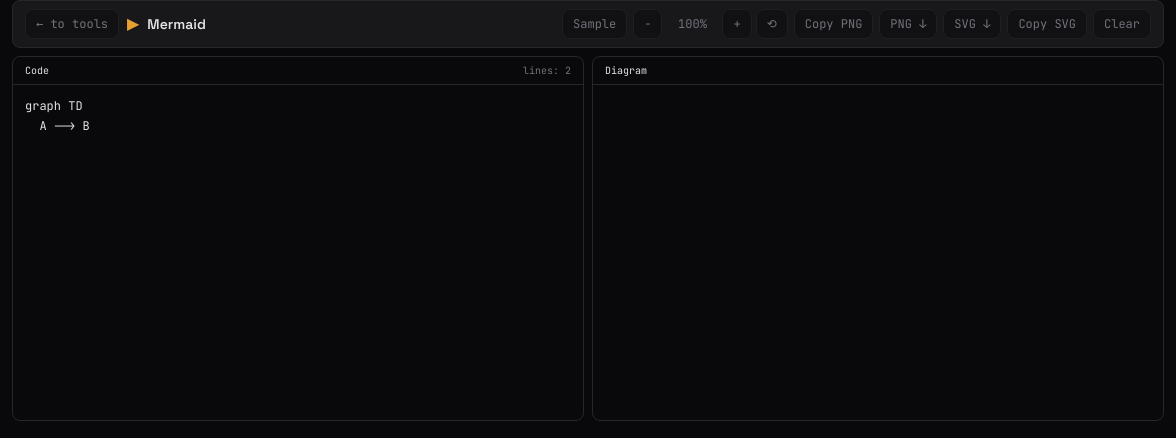
MermaidView toolbar › zooms in with + and returns to 100% with the reset button
The image size is (1176, 438).
What coordinates should you click on to do the following:
click the button named "Zoom in"
I would click on:
 (737, 24)
Its box is [722, 9, 752, 39].
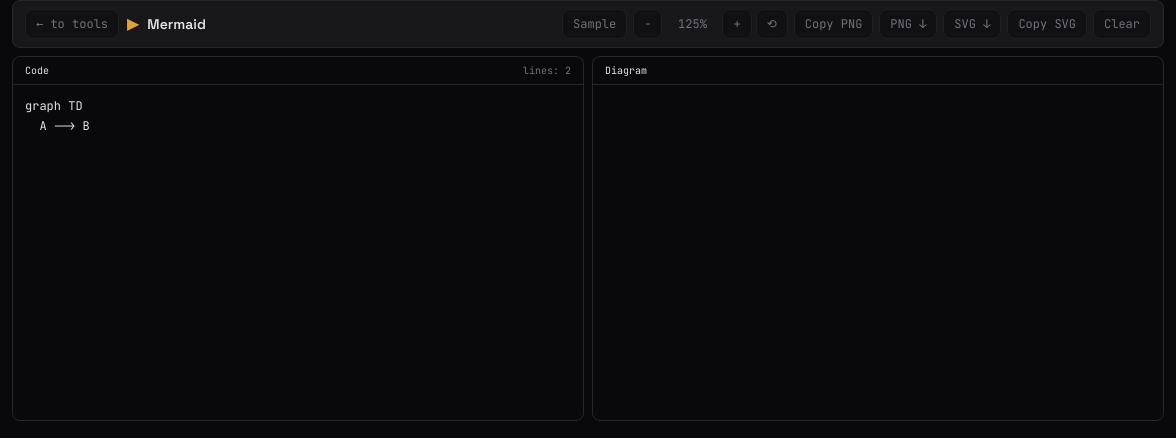
Check: the picture with test id "mermaid-zoom-level" reads "125%", box [678, 16, 707, 32]
What coordinates should you click on to do the following:
click the button named "Zoom in"
I would click on:
 (737, 24)
Its box is [722, 9, 752, 39].
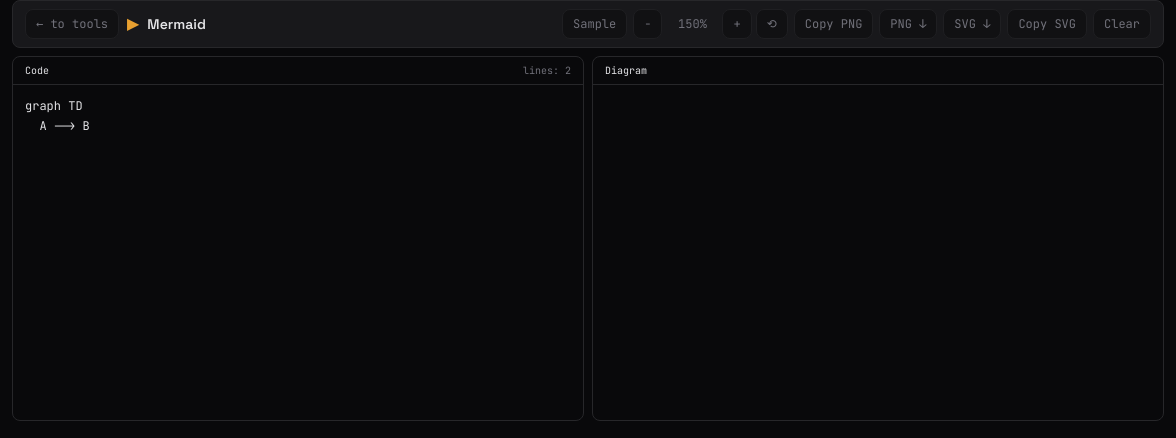
Check: the picture with test id "mermaid-zoom-level" reads "150%", box [678, 16, 707, 32]
What coordinates should you click on to do the following:
click the button named "Reset zoom"
I would click on:
 (772, 24)
Its box is [756, 9, 788, 39].
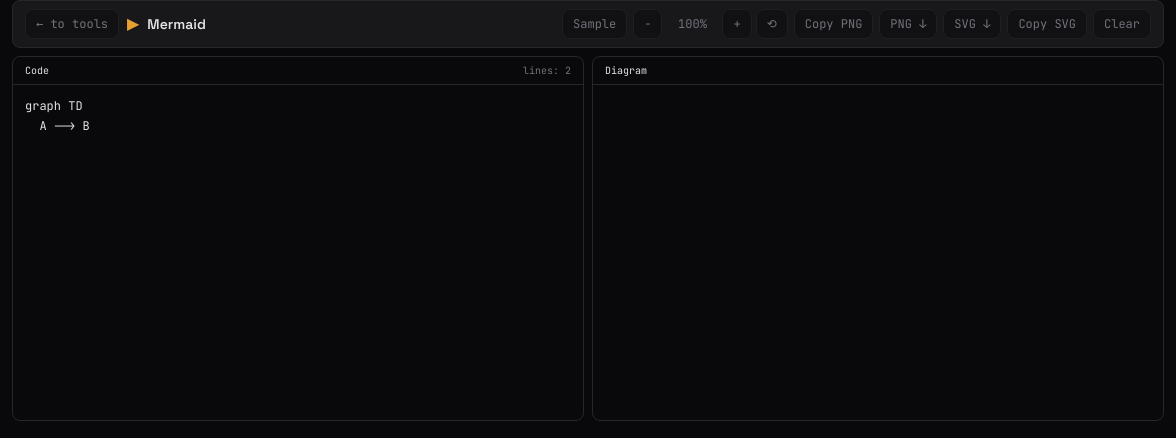
Check: the picture with test id "mermaid-zoom-level" reads "100%", box [678, 16, 707, 32]
